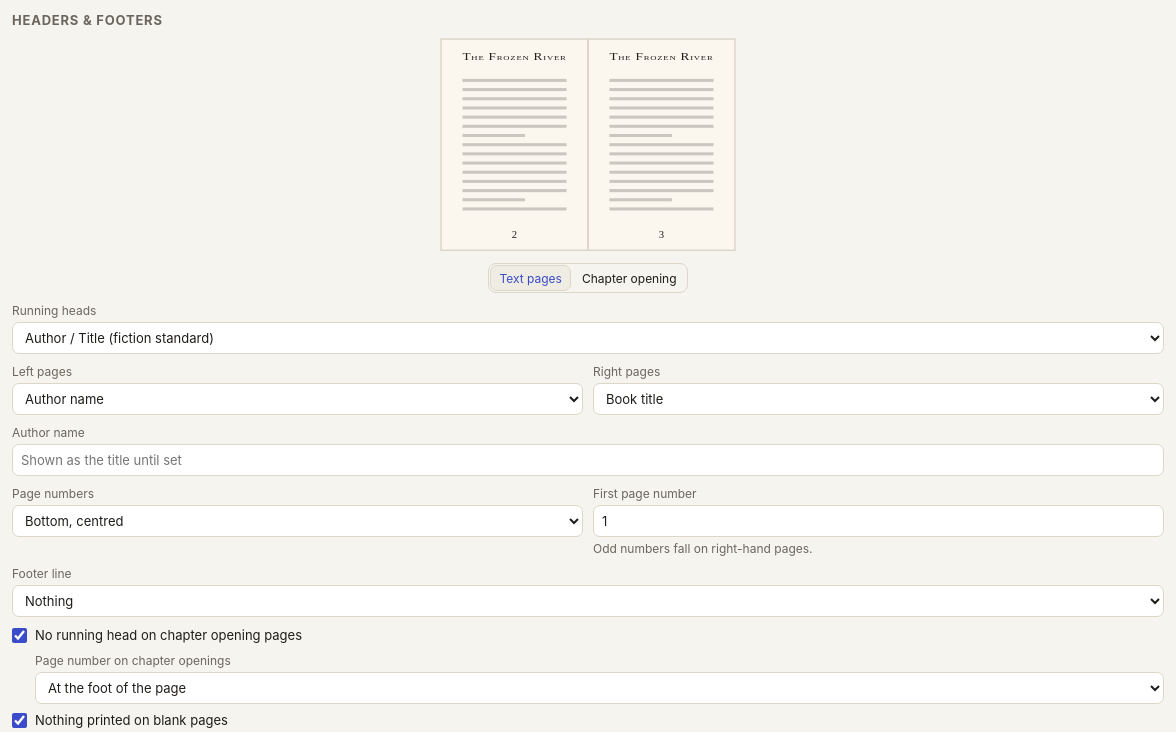
Test case: HeaderFooterPanel › a running-head preset sets both sides
Select "Title / Chapter" in the dropdown labelled "Running heads" at (588, 338), box [12,322,1164,354]
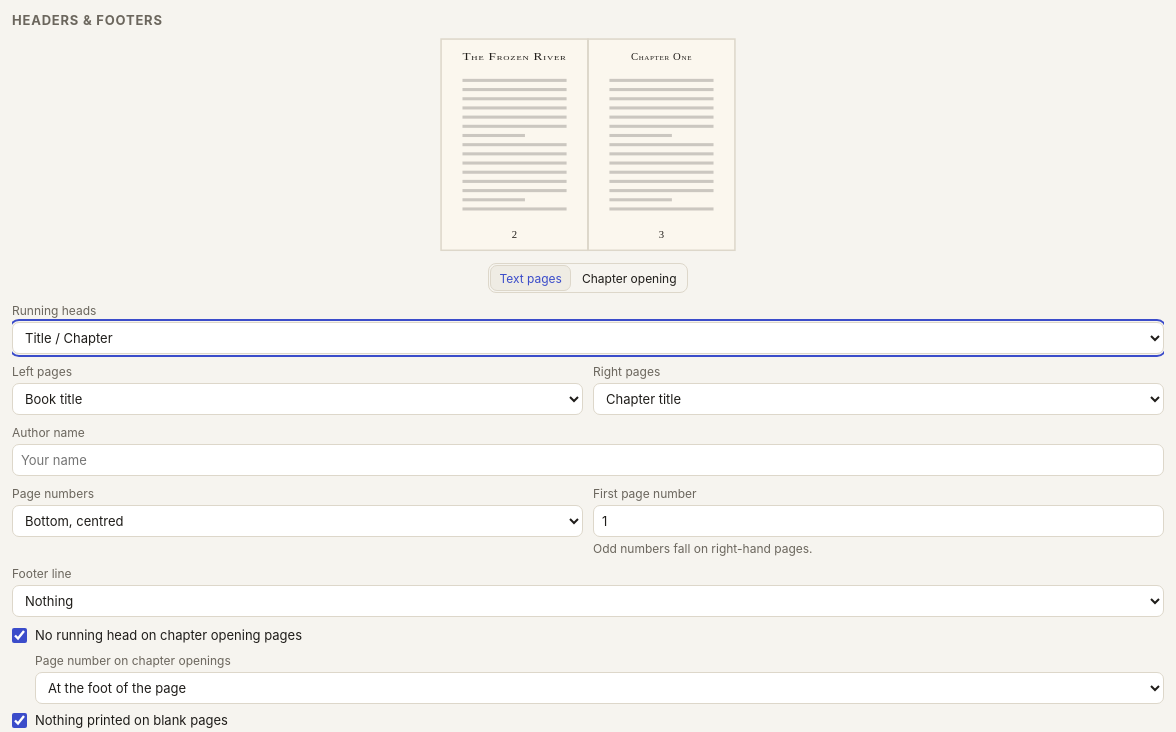
Check: the dropdown labelled "Left pages" shows "Book title", box [12,383,583,415]
Check: the dropdown labelled "Right pages" shows "Chapter title", box [593,383,1164,415]
